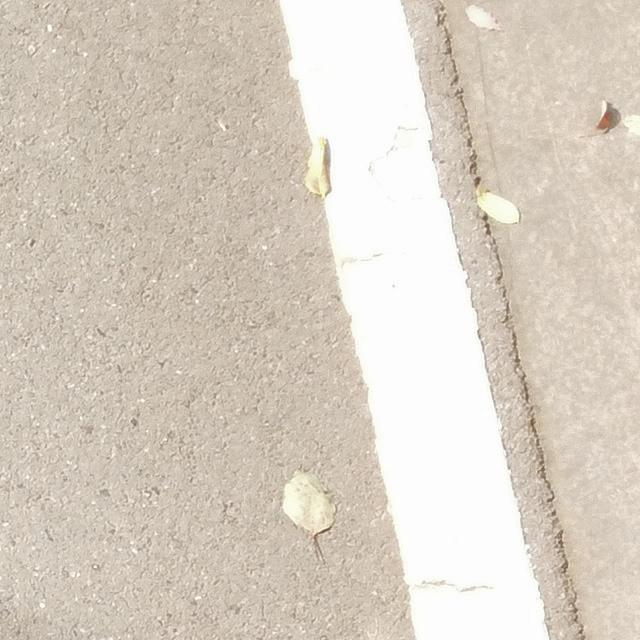LongitudinalCrack: (436, 1, 588, 640)
